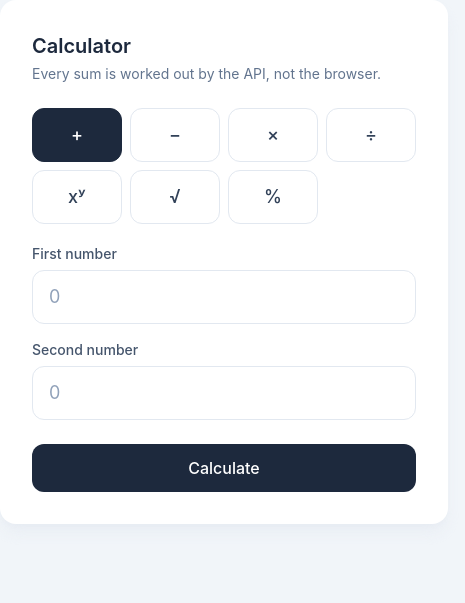
client-side validation › rejects an empty first operand
Type "3" into the field labelled "Second number" at {"x": 224, "y": 393}, box [32,366,416,420]
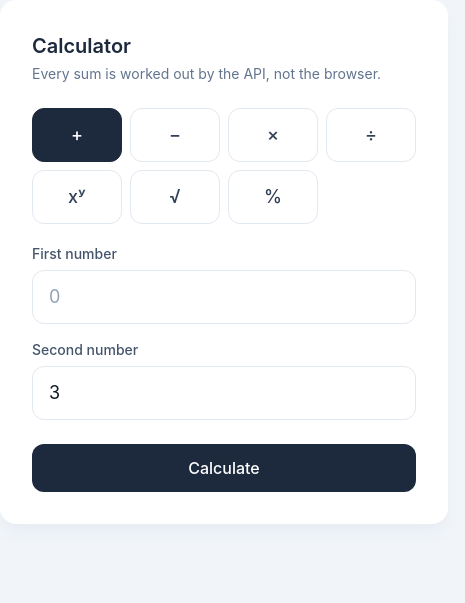
Click the button "Calculate" at {"x": 224, "y": 468}, box [32,444,416,492]
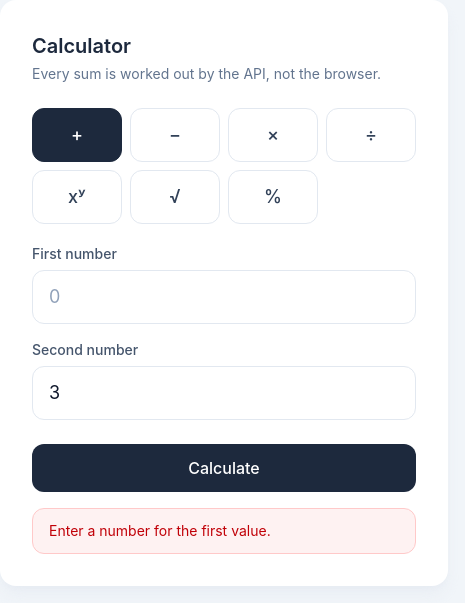
Now the message shows "first", box [49,522,271,539]
